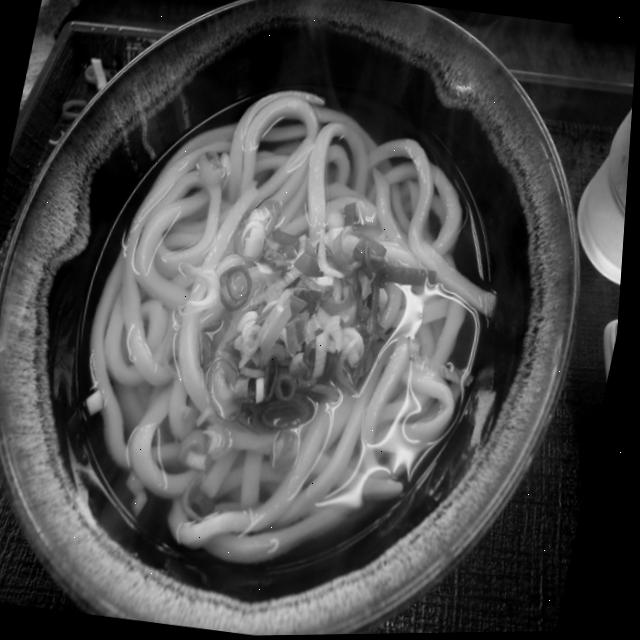面条主食: (62, 64, 556, 607)
